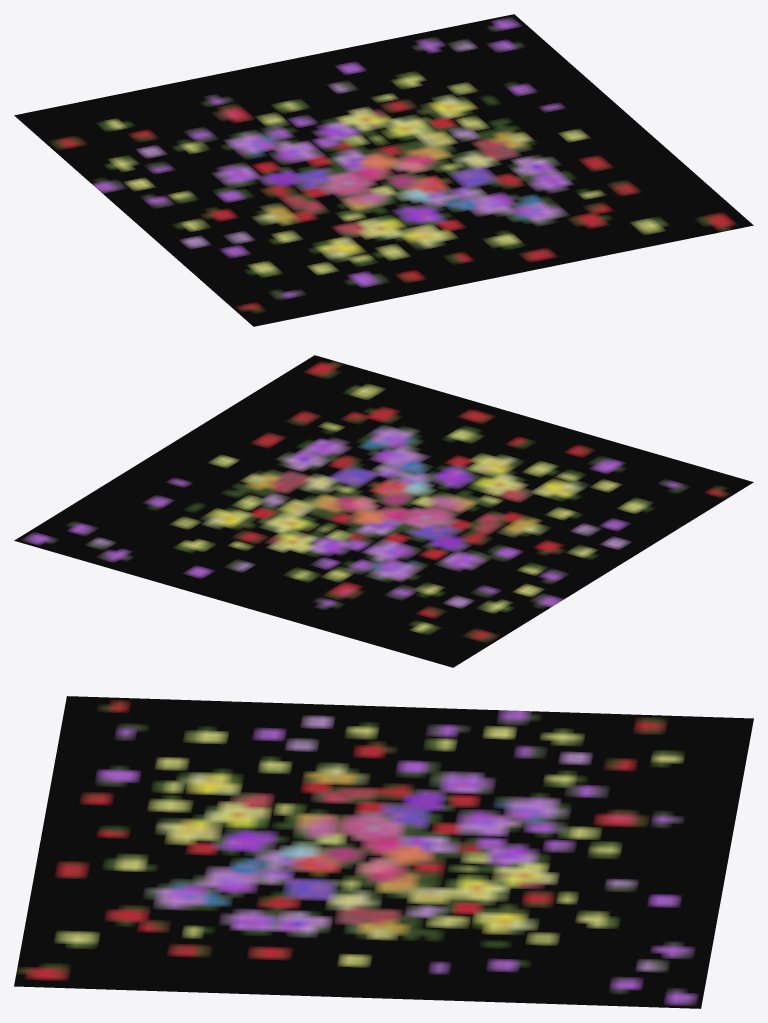
Rendered from Grass_I_2.fbx.
3 views of the same model, one above another, from view 1: azimuth 30°, elevation 25°; view 2: azimuth 150°, elevation 25°; view 3: azimuth 270°, elevation 25° (orthographic). The views are drawn at different scales.
Parts seen in each view (by area): view 1: Grass_I_2__73_; view 2: Grass_I_2__73_; view 3: Grass_I_2__73_.
Part boxes in pixels (<box>): Grass_I_2__73_: <box>14,14,753,326</box>; Grass_I_2__73_: <box>14,355,753,667</box>; Grass_I_2__73_: <box>14,696,753,1008</box>.
Bounding box in the file's own units: 0.5439 × 0 × 0.5439.
